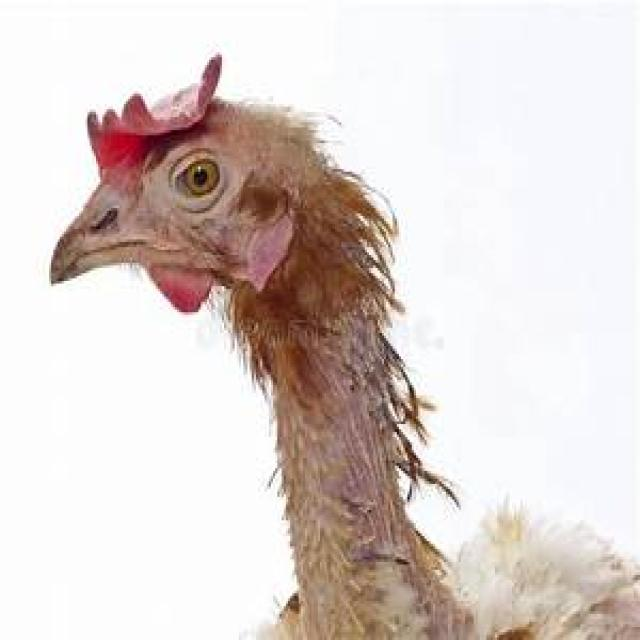chicken: (47, 50, 638, 638)
